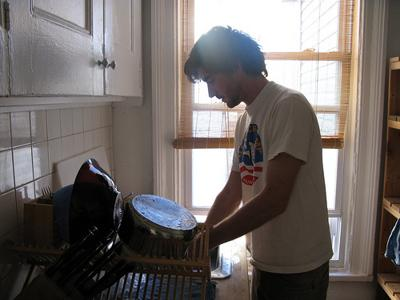person: (183, 27, 334, 297)
